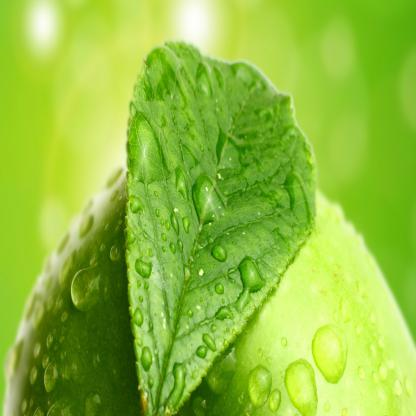apple leaf: (122, 24, 324, 416)
